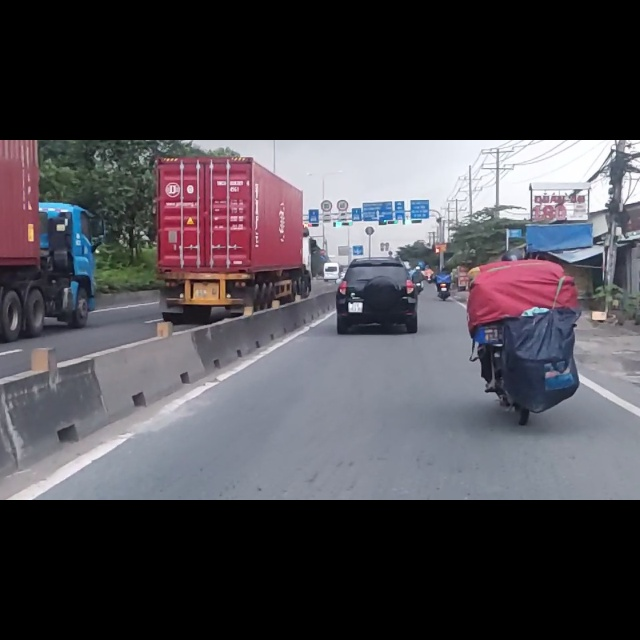bien_cam: (336, 104, 349, 128), (321, 107, 333, 128)
